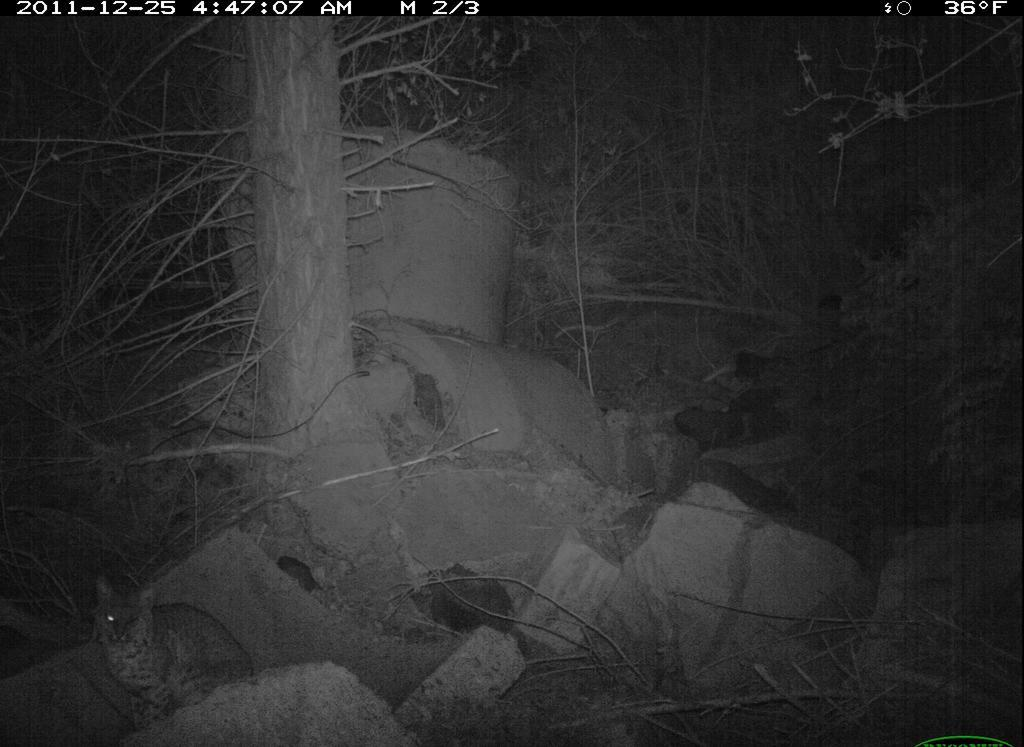bobcat: (76, 564, 262, 721)
